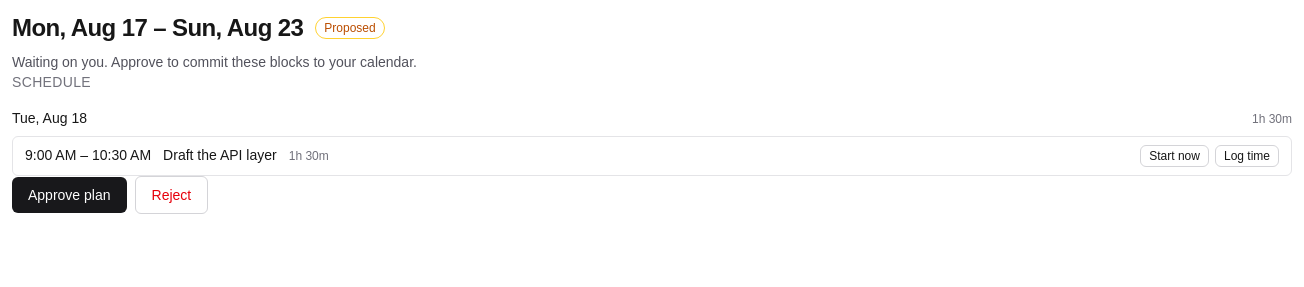
PlanDetail › renders every message when the server rejects the action with several
Click the button "Approve plan" at (69, 195), box [12,177,126,213]
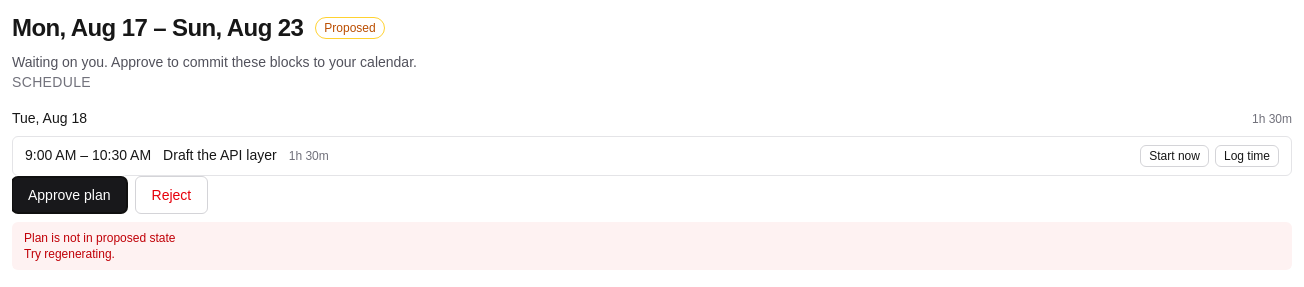
Check: the text "Plan is not in proposed state" is shown, box [24,231,175,245]
Check: the text "Try regenerating." is shown, box [24,247,115,261]
